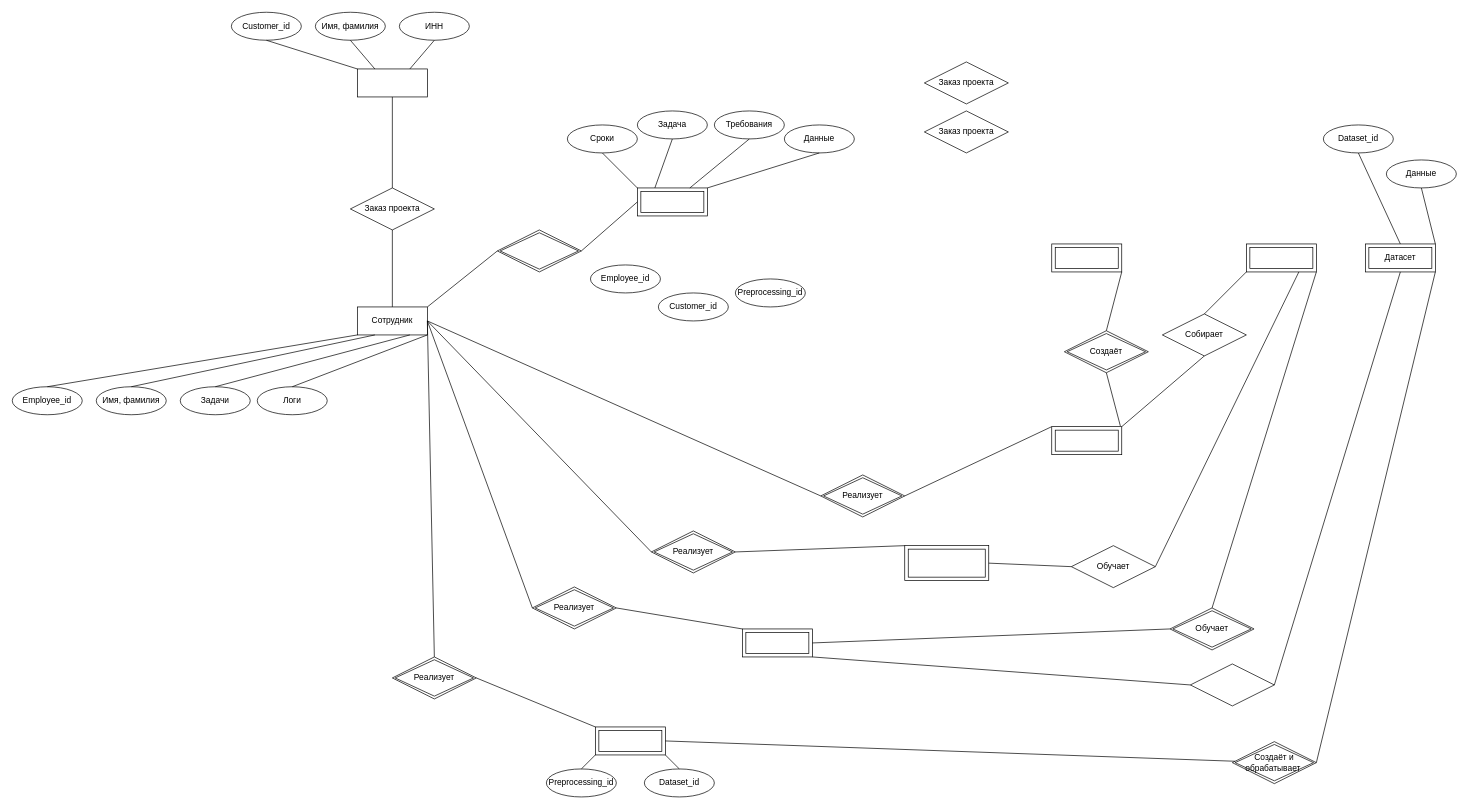
Some shapes in this 1469 by 809 pixel diagram are drawn without their labels. The shapes that lost their labels are listed below. From the top down, each one's box as (x1, y1, x2, y2) in pixels, then its label:
(357, 68, 427, 97): Заказчик
(637, 187, 707, 216): Проект
(497, 229, 581, 272): Инициализирует
(1051, 243, 1122, 272): Отчёт
(1246, 243, 1316, 272): Модель
(1051, 426, 1122, 455): Релиз модели и документации
(904, 545, 989, 581): Обучение выбранной модели
(742, 628, 812, 657): Выбор алгоритма
(1190, 663, 1274, 706): Берёт данные из
(595, 726, 665, 755): Подготовка датасета
